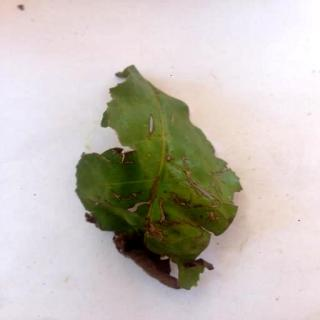Brown Blight: (78, 66, 243, 289)
